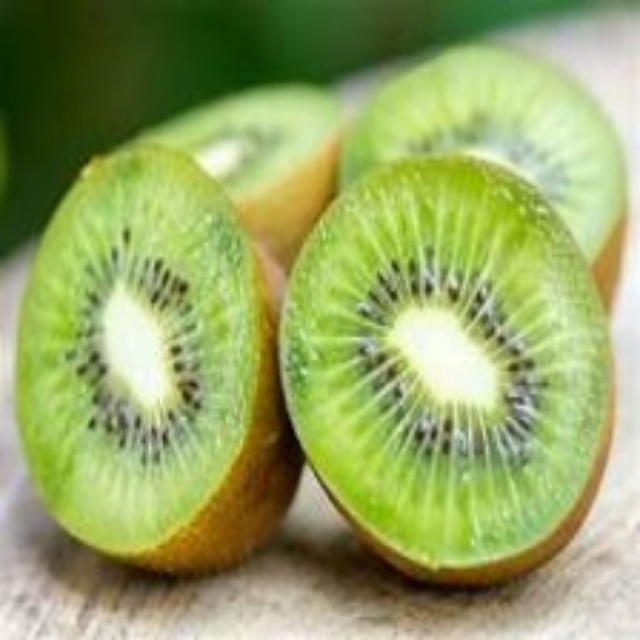kiwi: (308, 171, 618, 589), (28, 128, 295, 590), (347, 48, 639, 293)
